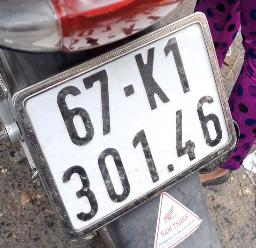0: (90, 139, 138, 209)
1: (123, 124, 166, 191), (160, 32, 197, 101)
3: (57, 159, 104, 227)
4: (163, 102, 201, 169)
6: (51, 80, 100, 152), (190, 90, 227, 154)
7: (76, 67, 121, 141)
K: (130, 40, 175, 118)
